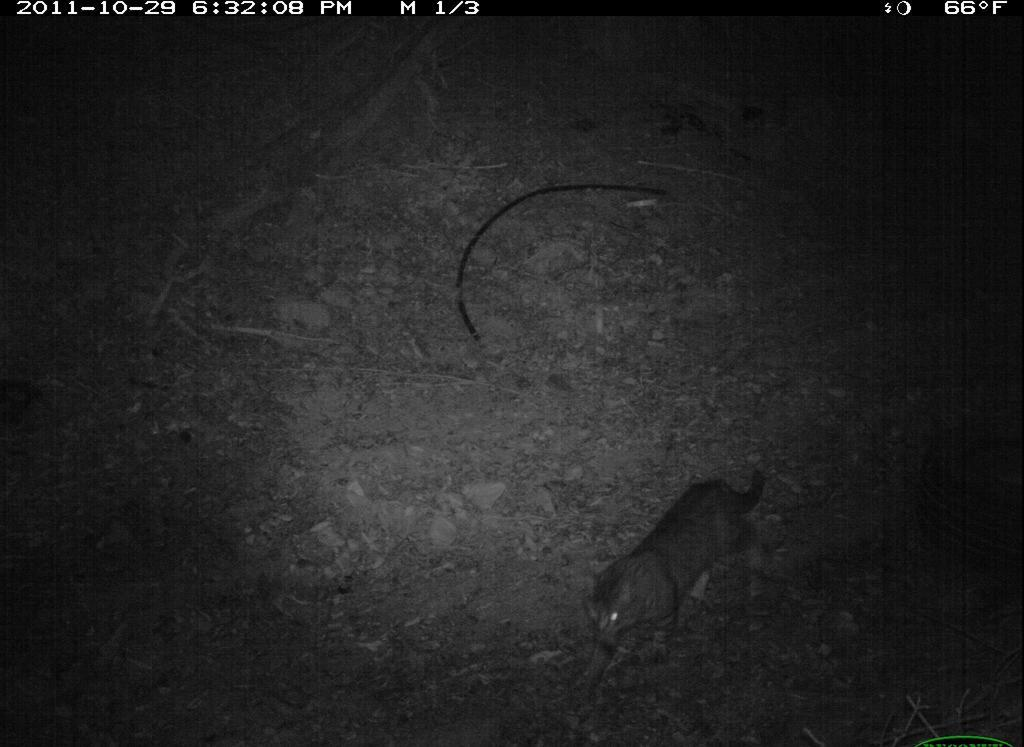cat: (575, 470, 785, 683)
